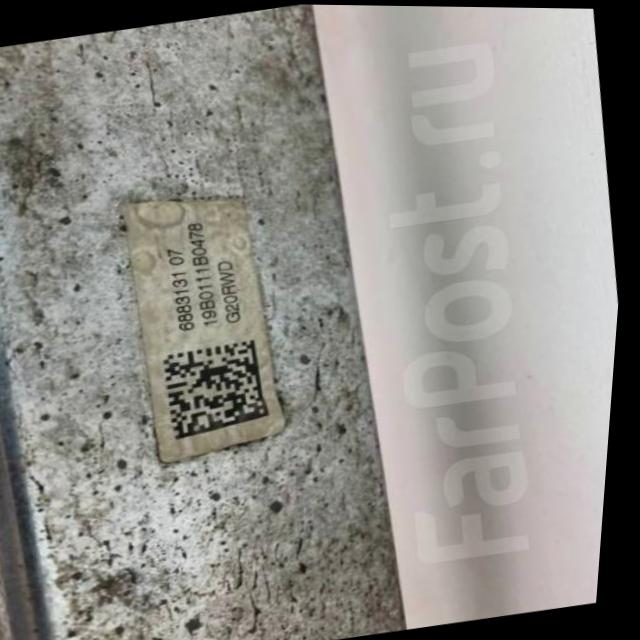datamatrix: (162, 335, 282, 441)
